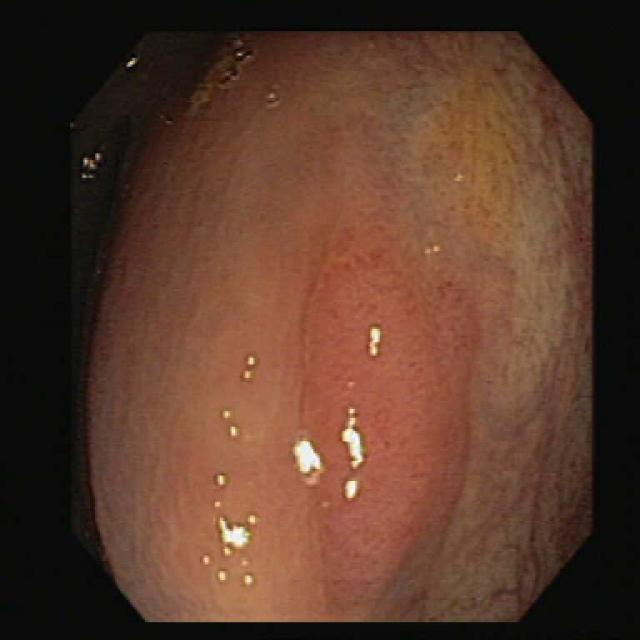tumor: (303, 238, 473, 618)
